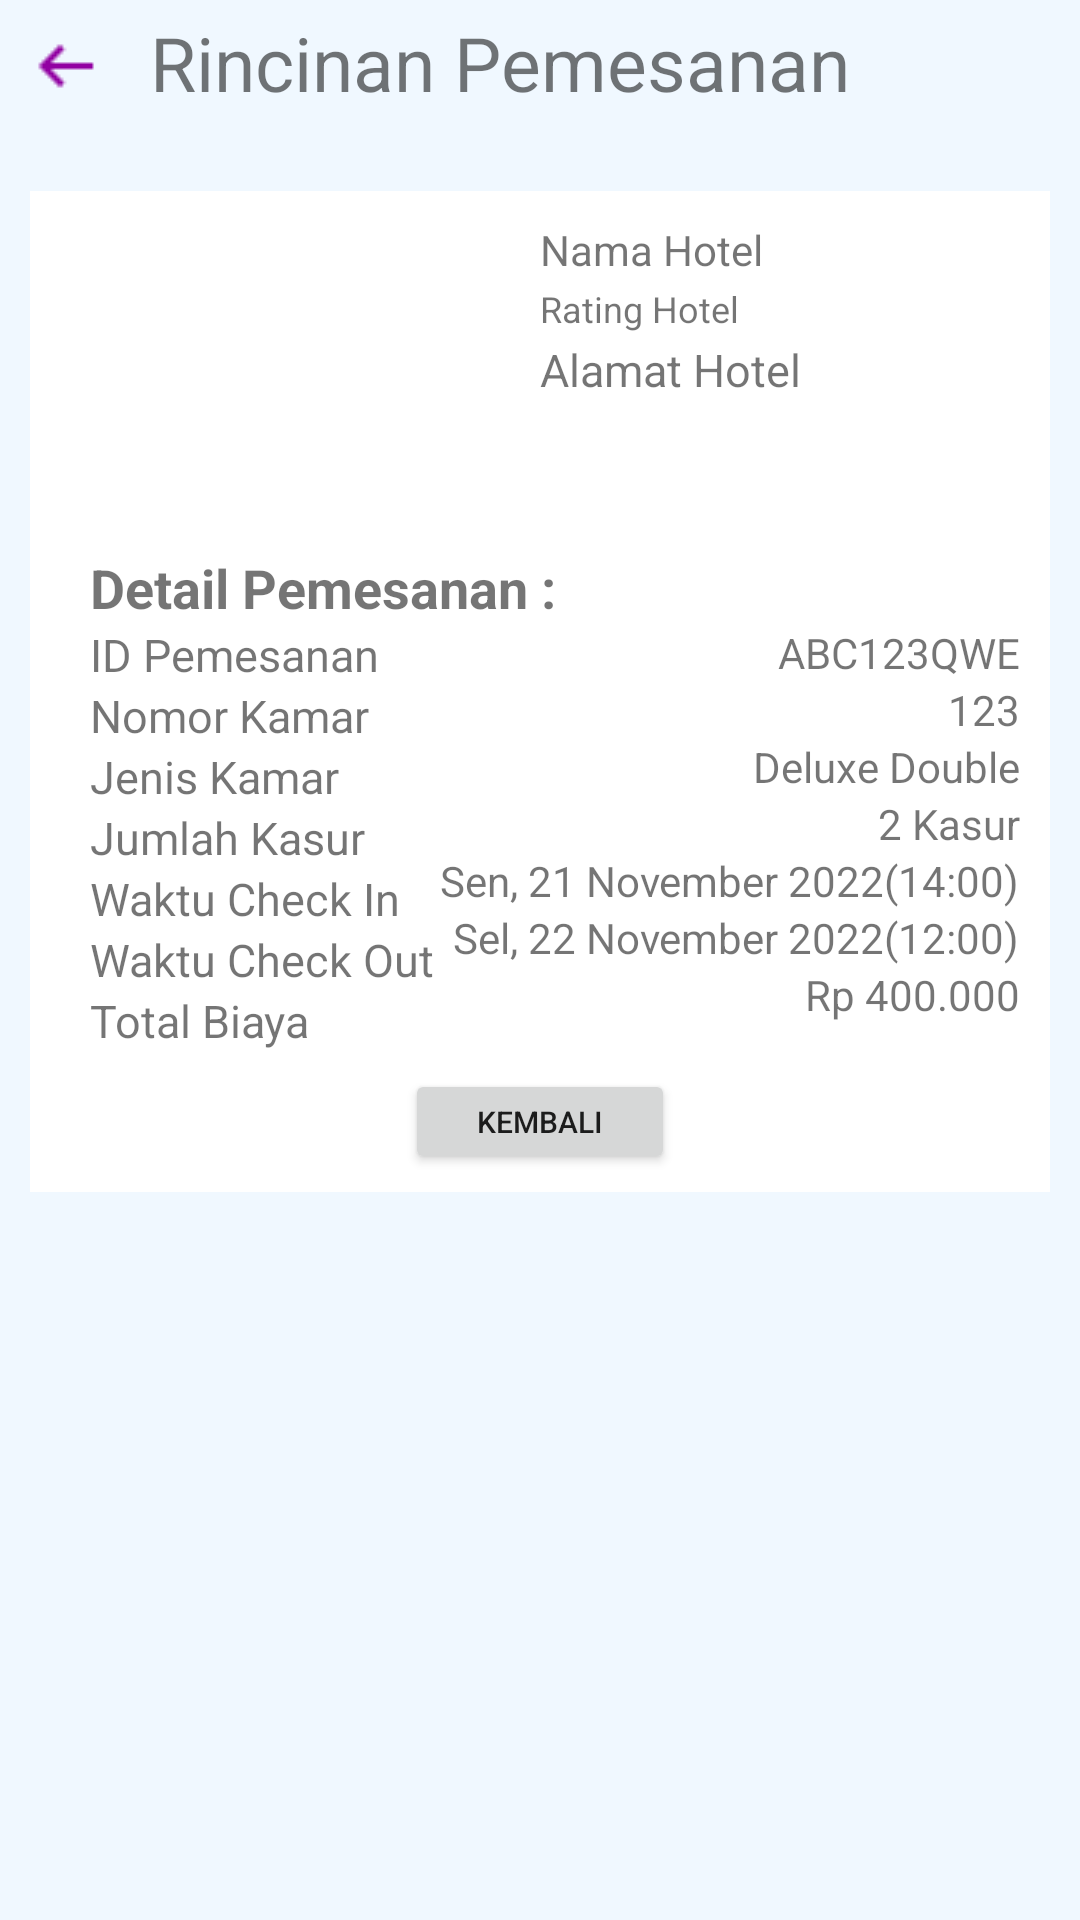

Icon bounding boxes for this 1080px x 1920px phone screenshot, format [x1,y1,x2,y2]:
back: [38,44,94,88]
